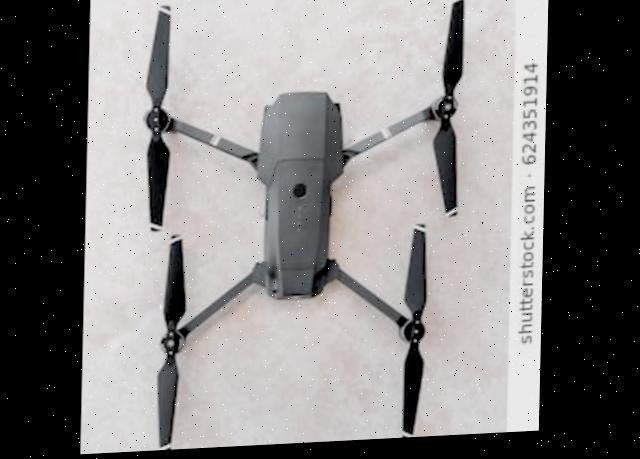drone: (118, 0, 470, 454)
